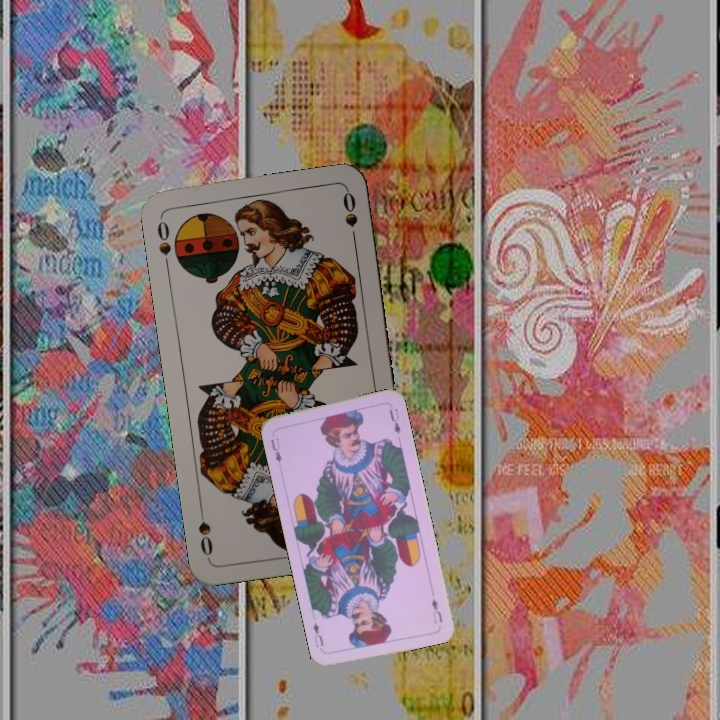EU: (427, 595, 445, 626), (267, 434, 284, 465)
SO: (153, 214, 174, 273)
